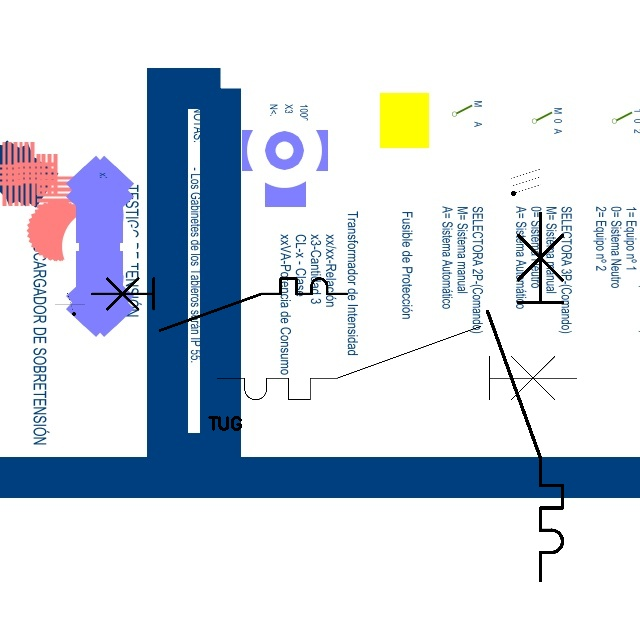interruptor_termomagnetico: (478, 203, 572, 589), (208, 317, 586, 409), (85, 272, 352, 337)
